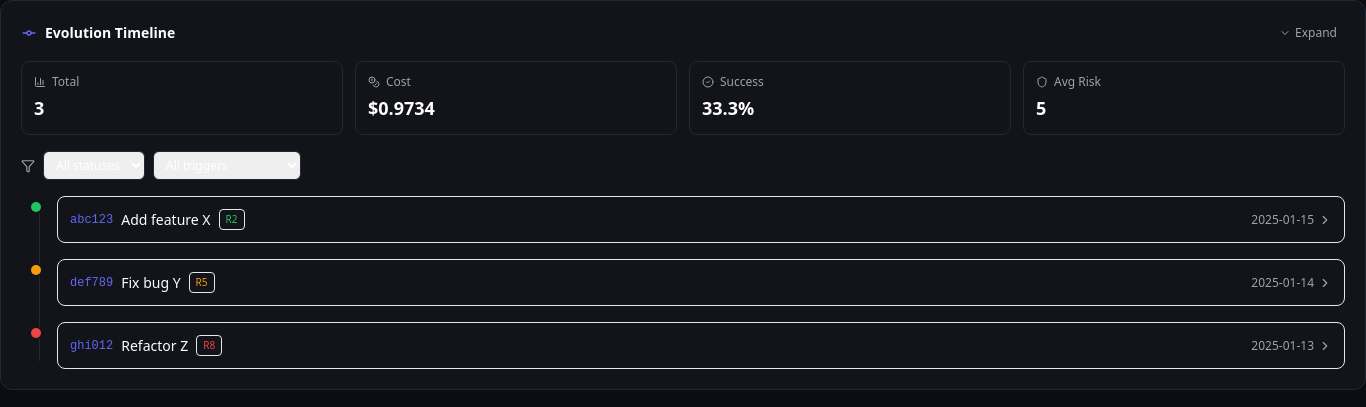
Test: EvolutionTimeline › filters by status
Expected: the text "Add feature X" is shown, x1=121 y1=210 x2=210 y2=230
Select "completed" in the 1st dropdown at (94, 166), box x1=43 y1=151 x2=145 y2=180
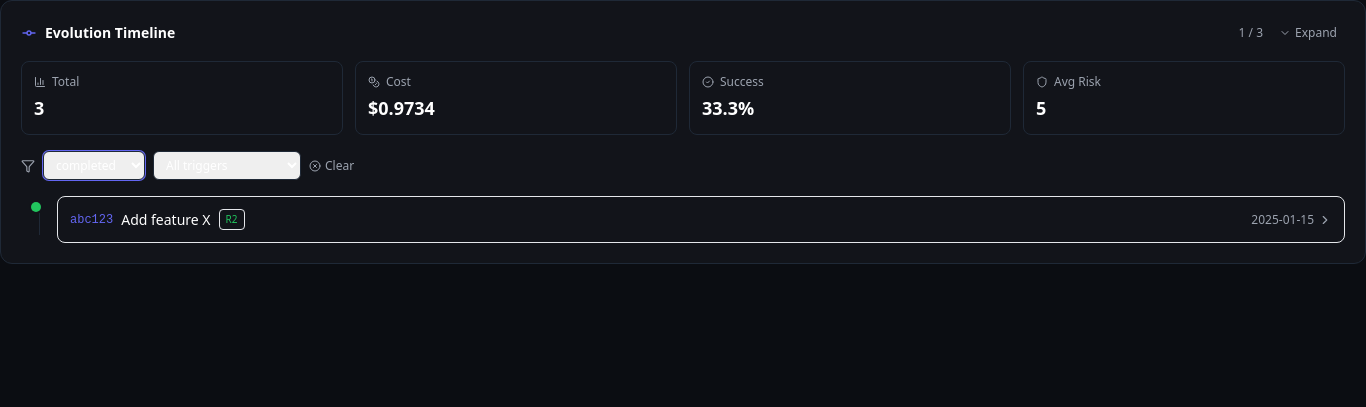
Expected: the text "Add feature X" is shown, x1=121 y1=210 x2=210 y2=230
Expected: the button "Fix bug Y" is gone
Expected: the button "Refactor Z" is gone
